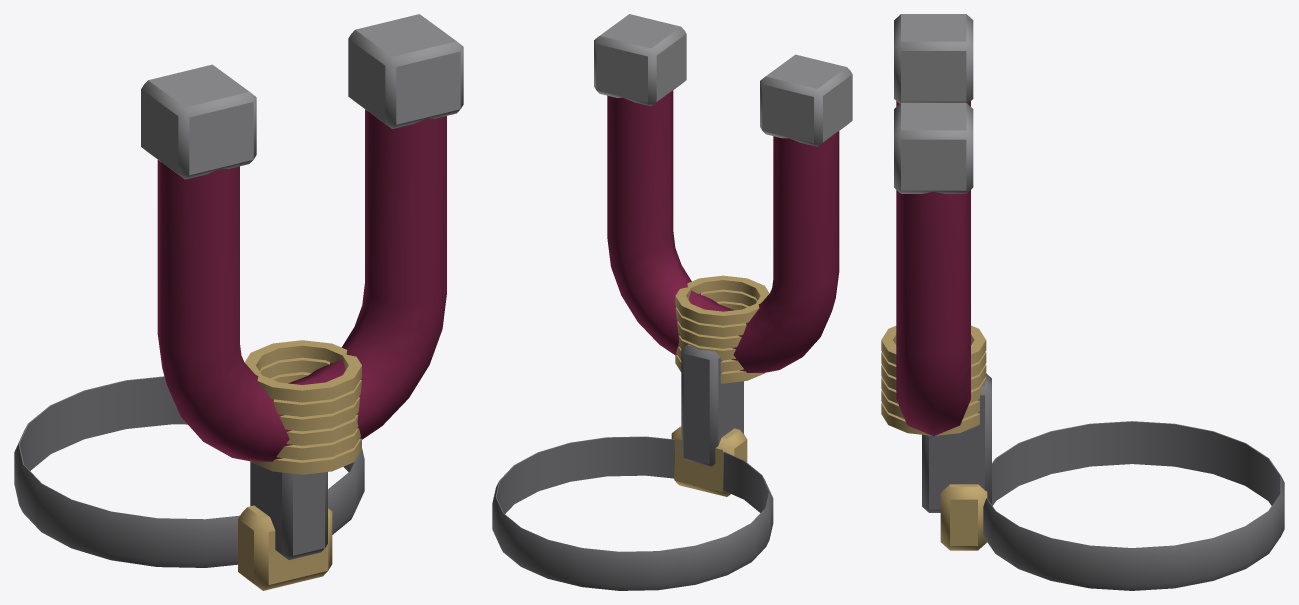
File: Kit_Active_Magnet.glb
3 renders of one model, left to right at view 1: azimuth 30°, elevation 25°; view 2: azimuth 150°, elevation 25°; view 3: azimuth 270°, elevation 25°, orthographic. The views are drawn at different scales.
Visible parts, largest first — view 1: Kit_Active_Magnet; view 2: Kit_Active_Magnet; view 3: Kit_Active_Magnet.
Boxes of the visible parts, box(x1,y1,x2,y2) form: Kit_Active_Magnet: box(14, 14, 463, 590); Kit_Active_Magnet: box(492, 14, 852, 590); Kit_Active_Magnet: box(881, 14, 1284, 590).
Bounding box in the file's own units: 0.132 × 0.22 × 0.1728.
